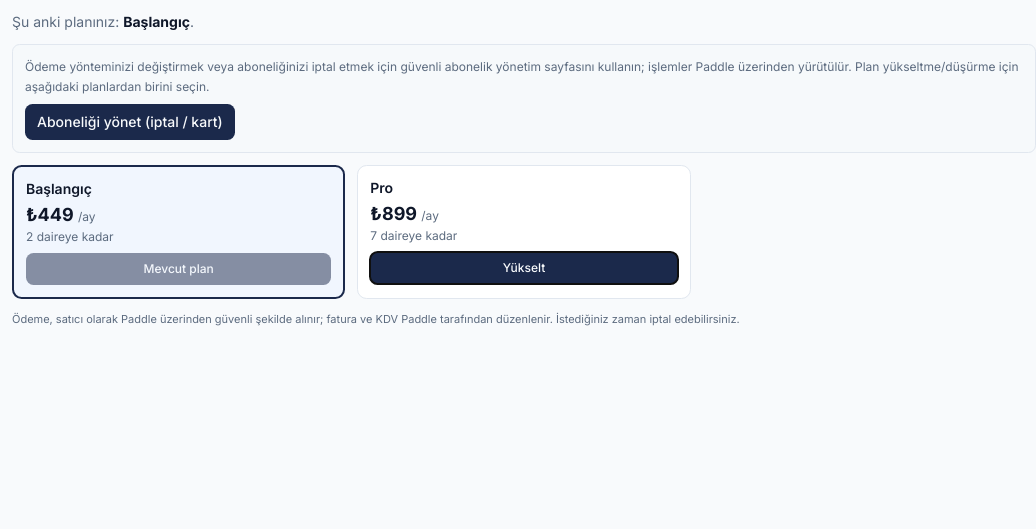
Test: PaddlePlans — plan değişikliği onayı › 'tutar değişti' ile panel yeniden kurulunca da (odak panelin içindeyken) kapanışta odak ilk açan düğmeye döner
Later steps or results of the test are not shown.
Click the button "Yükselt": click(524, 268) left=370, top=252, right=678, bottom=284
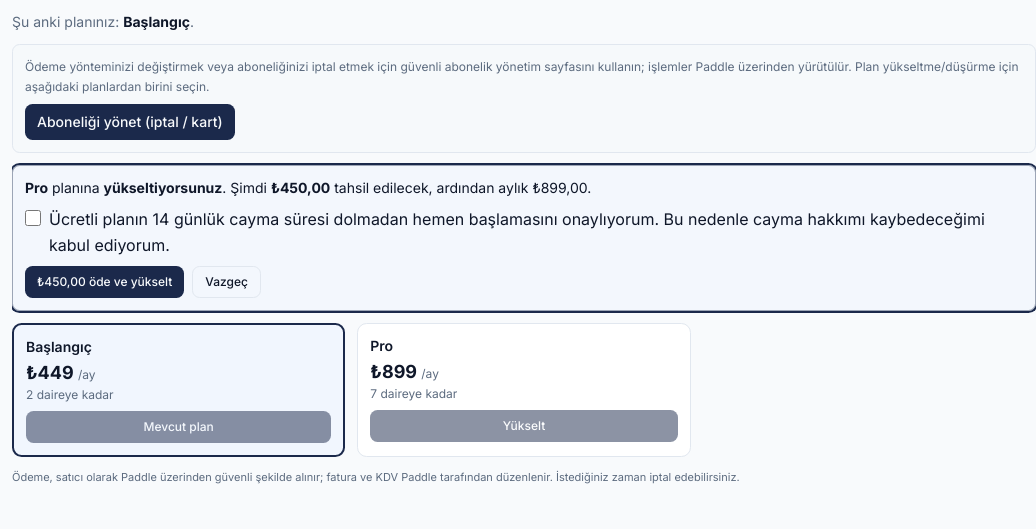
Click the checkbox named "consent-upgrade-immediateStart": click(33, 218) left=25, top=210, right=41, bottom=226
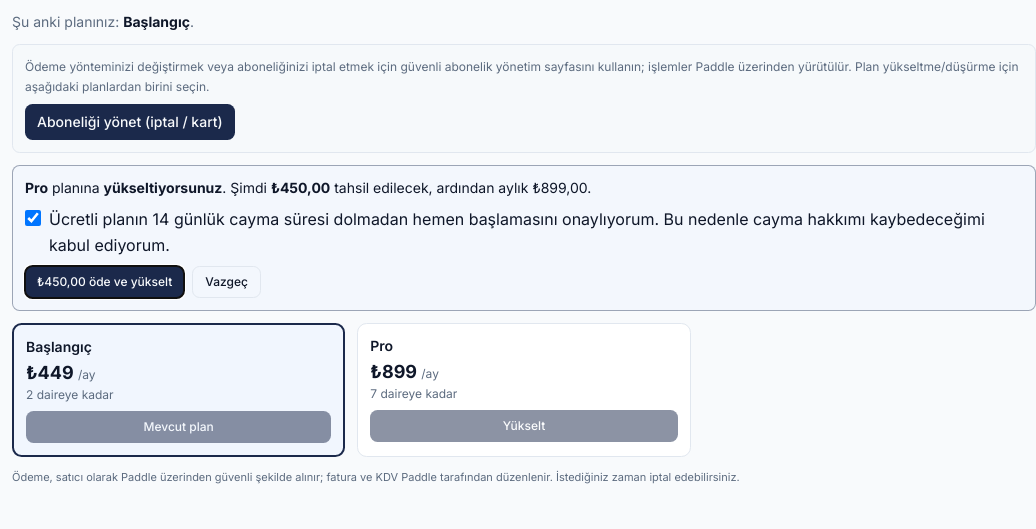
Click the button "₺450,00 öde ve yükselt": click(105, 282) left=25, top=266, right=184, bottom=298
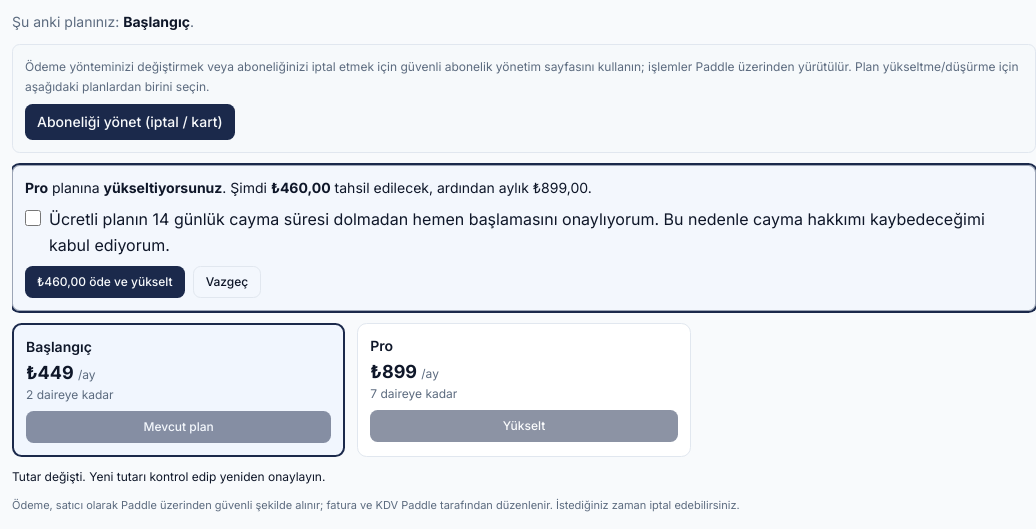
Result: the button "₺460,00 öde ve yükselt" is shown at left=25, top=266, right=185, bottom=298
